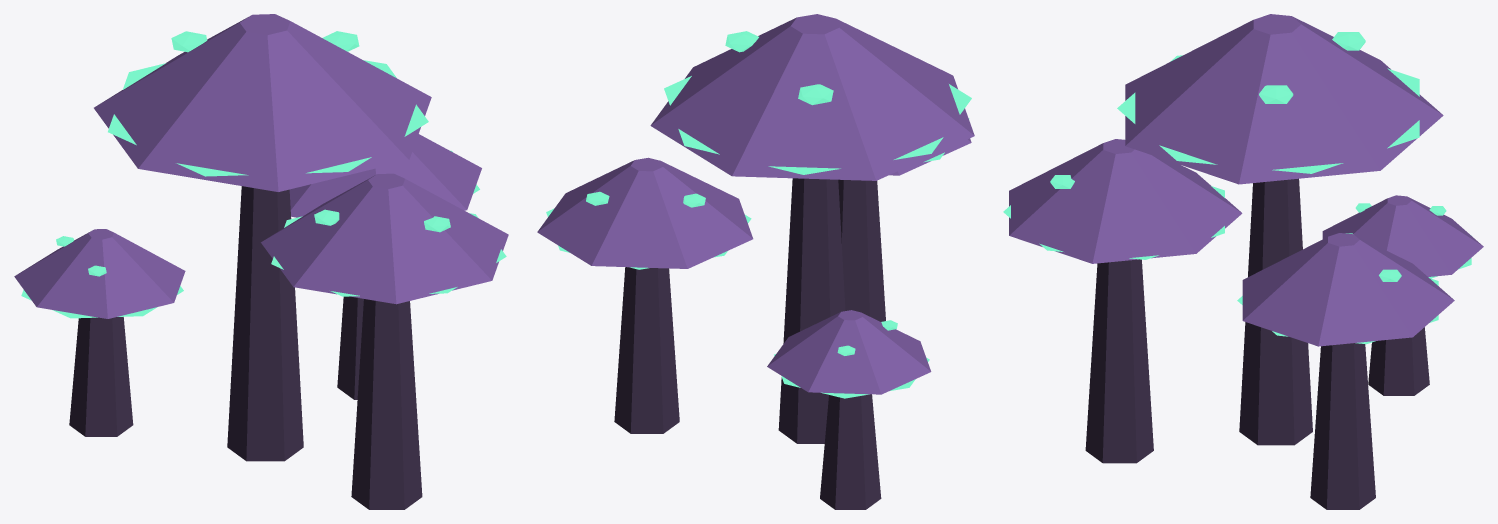
File: exo-flora-cap.glb
3 renders of one model, left to right at view 1: azimuth 30°, elevation 25°; view 2: azimuth 150°, elevation 25°; view 3: azimuth 270°, elevation 25°, orthographic. The views are drawn at different scales.
Visible parts, largest first — view 1: body; view 2: body; view 3: body.
Part boxes in pixels (x1,y1,x2,y2): body: [14, 14, 508, 509]; body: [537, 14, 974, 509]; body: [1003, 14, 1483, 509].
Size of the model in its own units: 2.06 by 2.01 by 2.15.
